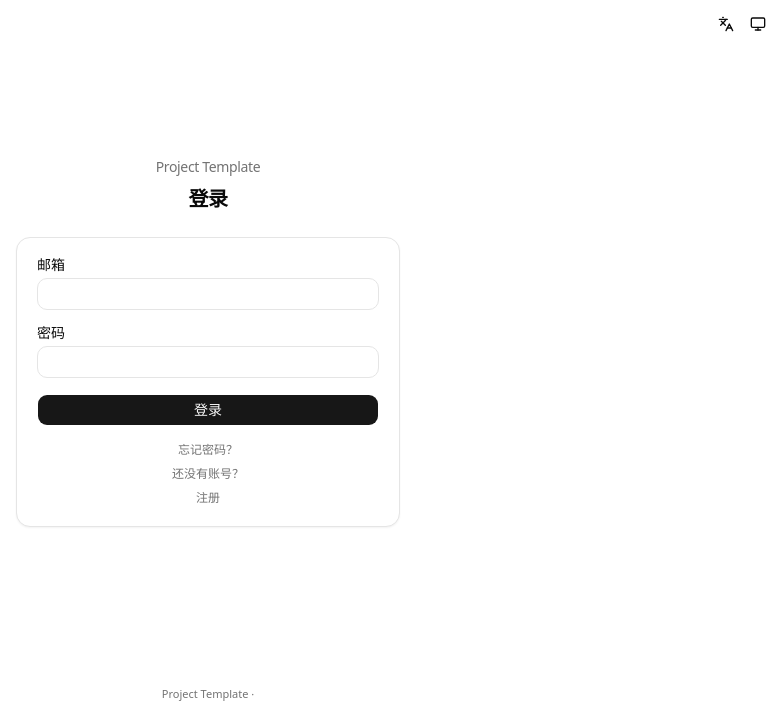
Test case: 登录两步（技术方案 §5B） › 密码步的密码框是唯一 type=password，验证码框换成新节点且属性合规
Type "owner@example.com" into the field labelled "邮箱" at (208, 294), box [37,278,379,310]
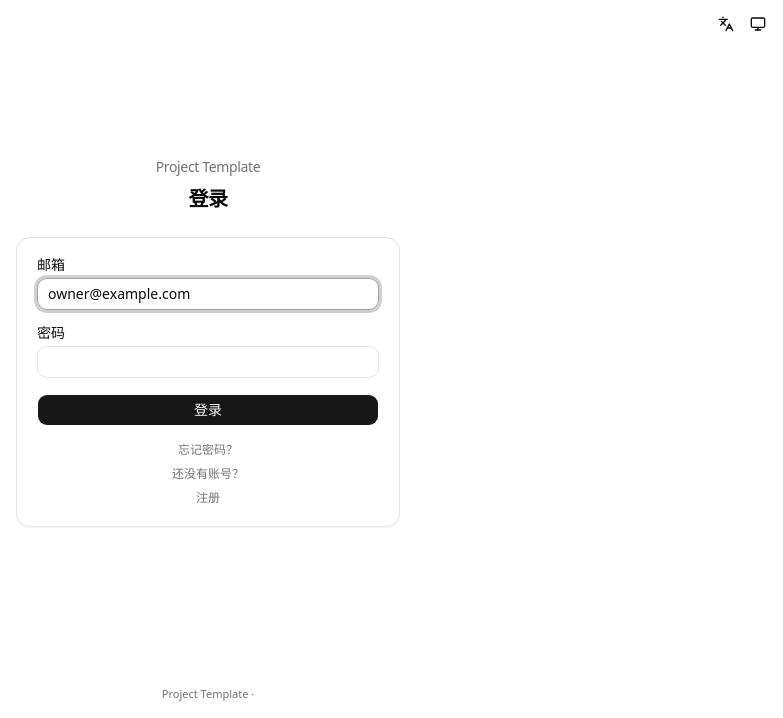
Type "secret-password" into the password field labelled "密码" at (208, 362), box [37,346,379,378]
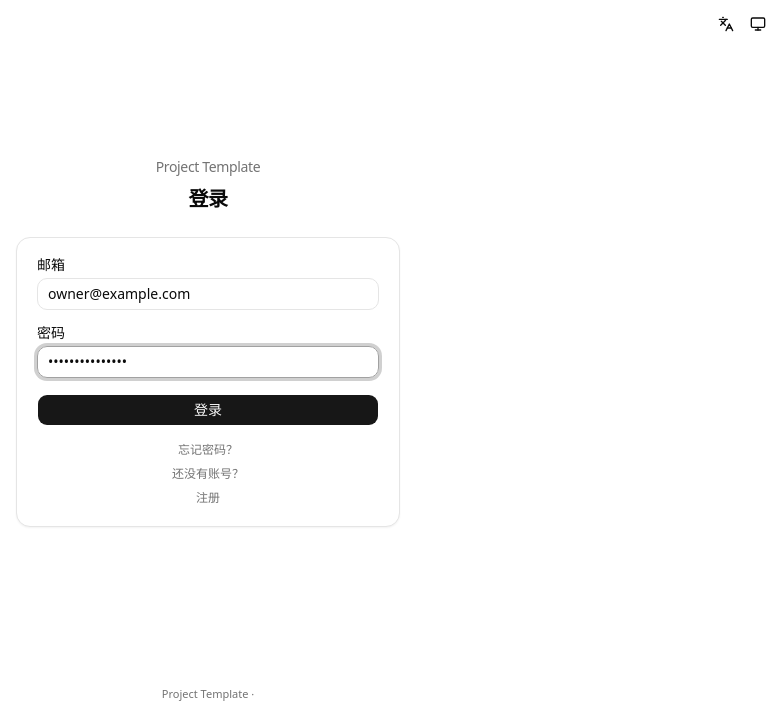
Click the button "登录" at (208, 410), box [37,394,379,426]
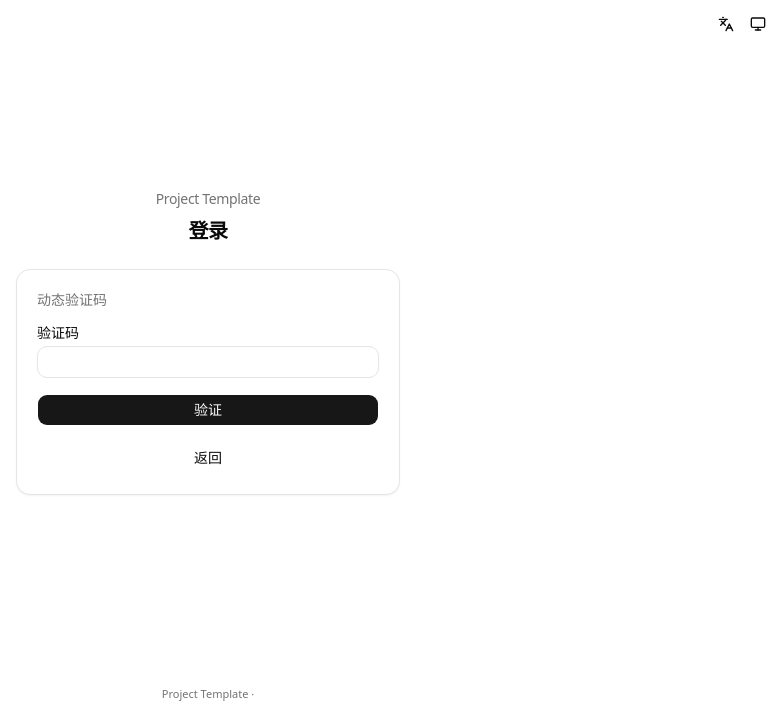
Check: the form with id "totp-step" is shown, box [37,290,379,474]
Check: the password field is gone
